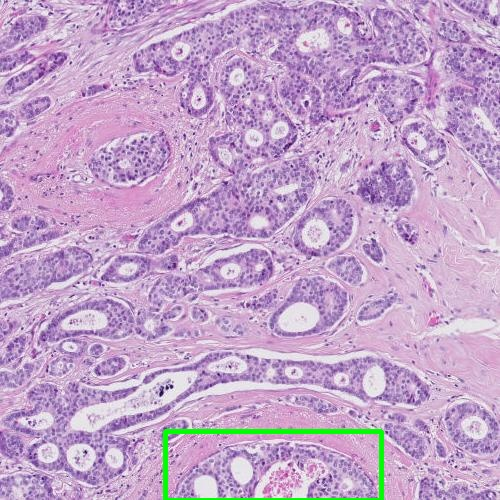DCIS: (165, 431, 381, 500)
